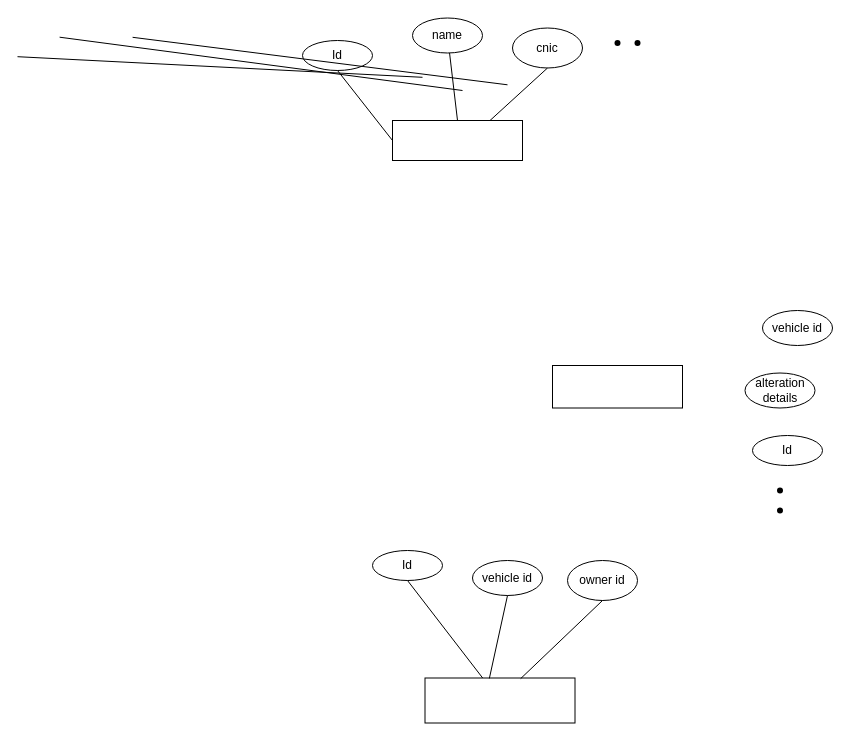
Some shapes in this 850 by 740 pixel diagram are drawn without their labels. The centre of each missing label's shape, as x and y in pixels:
"Alteration" goes at point (617, 386).
"Owner" goes at point (457, 140).
"Vehicle Owner" goes at point (499, 700).
